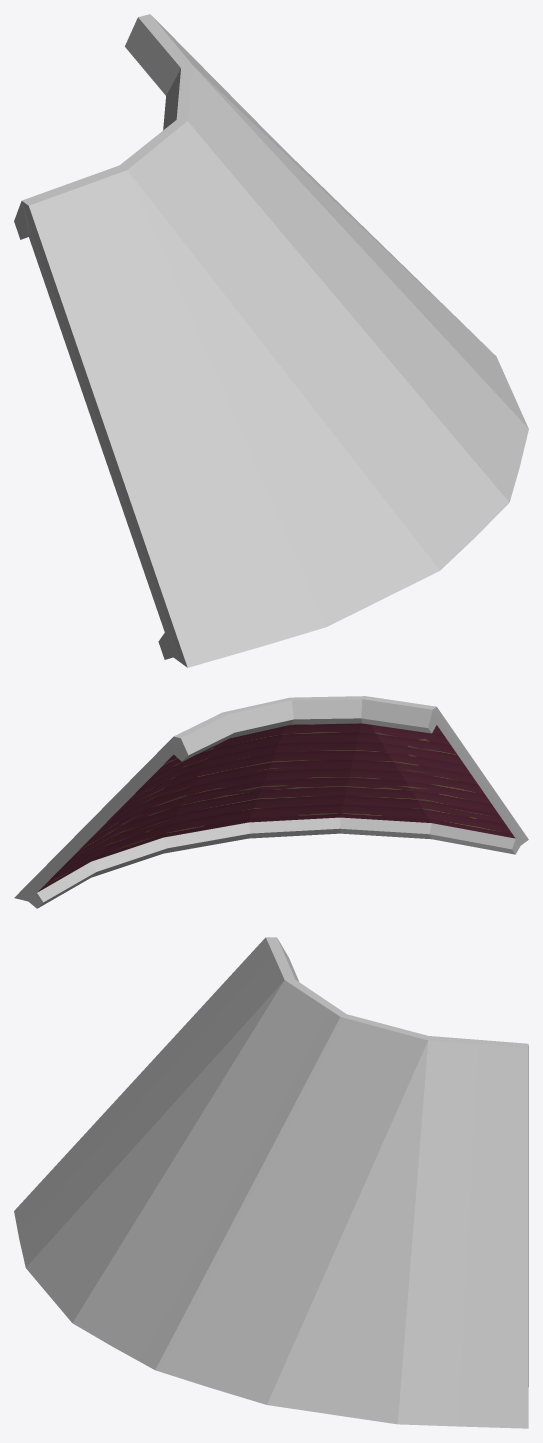
File: SM_Bld_Roof_Straight_Corner_Out_03.fbx
3 renders of one model, top to bottom at view 1: azimuth 30°, elevation 25°; view 2: azimuth 150°, elevation 25°; view 3: azimuth 270°, elevation 25°, orthographic. The views are drawn at different scales.
Parts seen in each view (by area): view 1: SM_Bld_Roof_Straight_Corner_Out_03; view 2: SM_Bld_Roof_Straight_Corner_Out_03; view 3: SM_Bld_Roof_Straight_Corner_Out_03.
Part boxes in pixels (bbox=[...]): SM_Bld_Roof_Straight_Corner_Out_03: bbox=[14, 14, 528, 667]; SM_Bld_Roof_Straight_Corner_Out_03: bbox=[14, 696, 528, 908]; SM_Bld_Roof_Straight_Corner_Out_03: bbox=[14, 937, 528, 1428].
Bounding box in the file's own units: 511 × 308 × 511.
